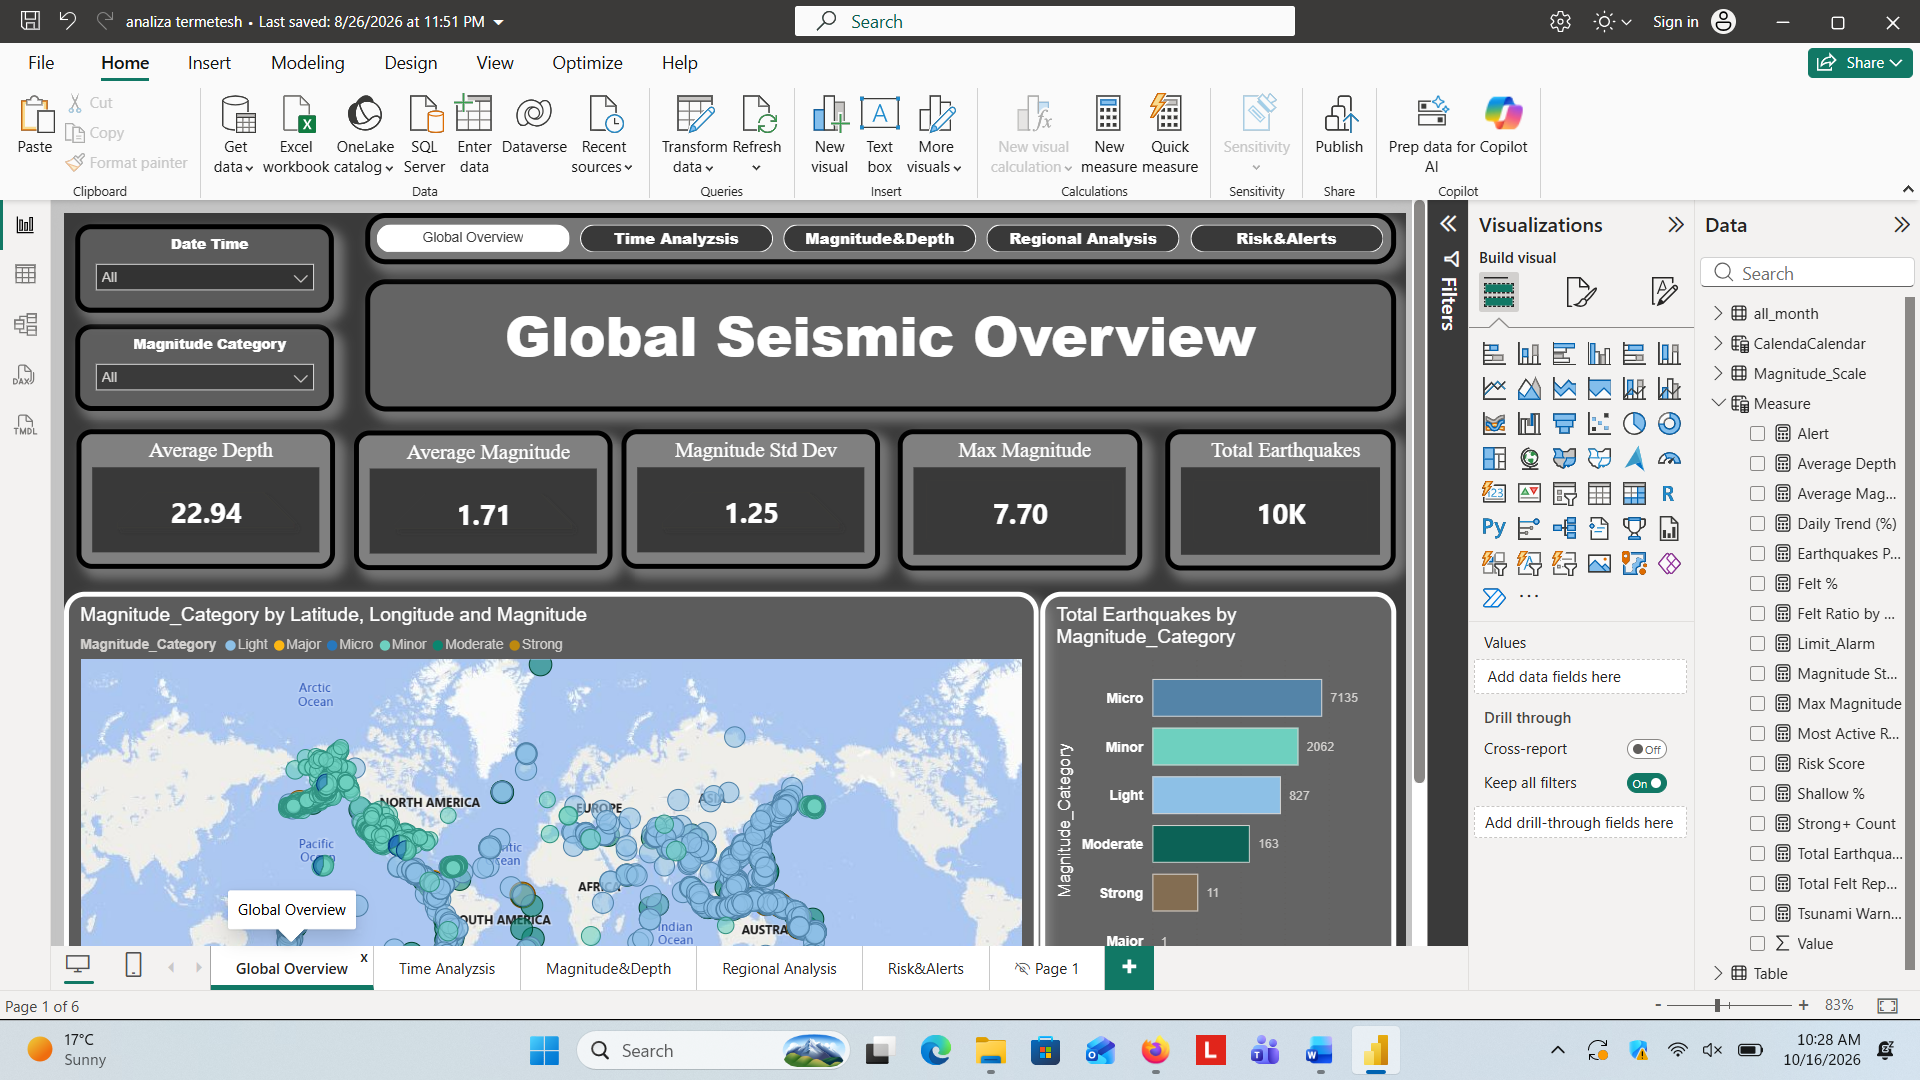

This screenshot's page, from the dashboard's own definition file:
{"tool":"powerbi","page":{"name":"Global Overview","canvas":[1300,900],"ordinal":0},"visuals":[{"type":"cardVisual","title":"Average Depth","fields":{"Data":["Measure.Average Depth"]},"box":[12.1,209.4,250.7,135.3],"z":0},{"type":"cardVisual","title":"Max Magnitude","fields":{"Data":["Measure.Max Magnitude"]},"box":[807.5,209.4,236.4,136.7],"z":3000},{"type":"cardVisual","title":"Total Earthquakes","fields":{"Data":["Measure.Total Earthquakes"]},"box":[1066.7,209.4,223.6,136.7],"z":4000},{"type":"slicer","title":"Magnitude Category","fields":{"Values":["all_month.Magnitude_Category"]},"box":[11.4,108.2,250.7,84],"z":5000},{"type":"slicer","title":"Date Time","fields":{"Values":["all_month.Data_Ora"]},"box":[11.4,11.4,250.7,85.5],"z":6000},{"type":"map","title":" Magnitude_Category by Latitude, Longitude and Magnitude","fields":{"Series":["all_month.Magnitude_Category"],"Size":["Sum(all_month.Magnitude)"],"X":["all_month.Longitude"],"Y":["all_month.Latitude"]},"box":[0,366.8,944.2,433],"z":7000},{"type":"barChart","fields":{"Category":["all_month.Magnitude_Category"],"Y":["Measure.Total Earthquakes"]},"box":[945.5,366.8,345,433.4],"z":8000},{"type":"textbox","box":[292,64.1,998.4,128.2],"z":9000},{"type":"pageNavigator","box":[292,0,998.4,49.8],"z":10000},{"type":"cardVisual","title":"Average Magnitude","fields":{"Data":["Measure.Average Magnitude"]},"box":[280.9,210.7,250.7,135.3],"z":10001},{"type":"cardVisual","title":"Magnitude Std Dev","fields":{"Data":["Measure.Magnitude Std Dev"]},"box":[540,209.4,250.7,135.3],"z":10002}]}

Visuals, with their boxes on the page's 1300x900 design canvas (x1, y1, x2, y2). These are canvas units, not pixel positions in the 1920x1080 screenshot, which may show the page scaled, cropped or inside an application window:
"Average Depth" cardVisual: Rect(12, 209, 263, 345)
"Max Magnitude" cardVisual: Rect(808, 209, 1044, 346)
"Total Earthquakes" cardVisual: Rect(1067, 209, 1290, 346)
"Magnitude Category" slicer: Rect(11, 108, 262, 192)
"Date Time" slicer: Rect(11, 11, 262, 97)
" Magnitude_Category by Latitude, Longitude and Magnitude" map: Rect(0, 367, 944, 800)
barChart - all_month.Magnitude_Category x Measure.Total Earthquakes: Rect(946, 367, 1290, 800)
textbox: Rect(292, 64, 1290, 192)
pageNavigator: Rect(292, 0, 1290, 50)
"Average Magnitude" cardVisual: Rect(281, 211, 532, 346)
"Magnitude Std Dev" cardVisual: Rect(540, 209, 791, 345)
